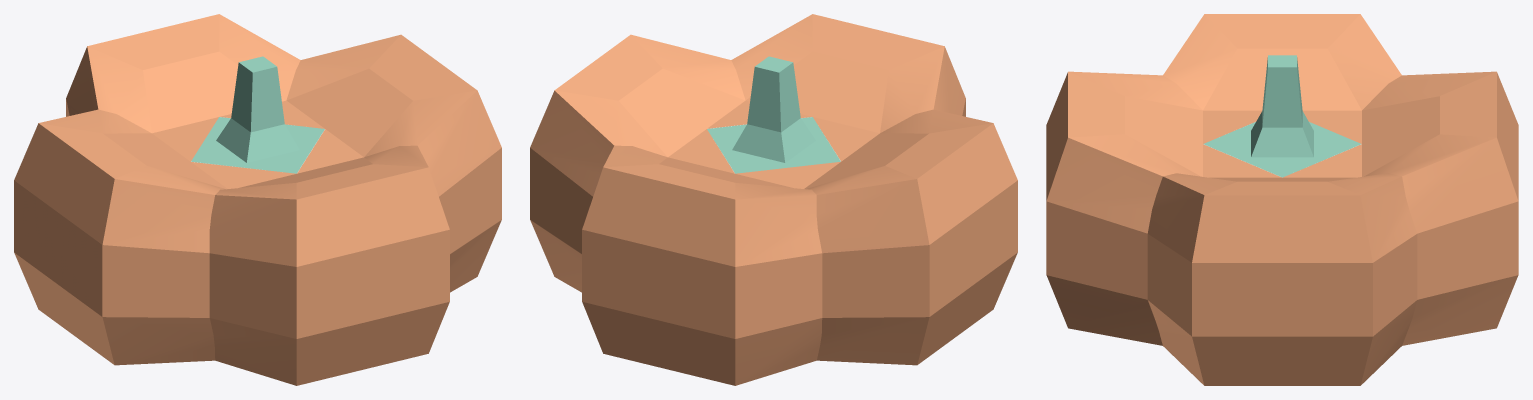
Rendered from pumpkin.glb.
3 views of the same model, side by side, from view 1: azimuth 30°, elevation 25°; view 2: azimuth 150°, elevation 25°; view 3: azimuth 270°, elevation 25° (orthographic). The views are drawn at different scales.
Visible parts, largest first — view 1: pumpkin; view 2: pumpkin; view 3: pumpkin.
Part boxes in pixels (<box>): pumpkin: <box>14,14,501,385</box>; pumpkin: <box>530,14,1017,385</box>; pumpkin: <box>1046,14,1518,385</box>.
Bounding box in the file's own units: 0.4189 × 0.2292 × 0.4189.
